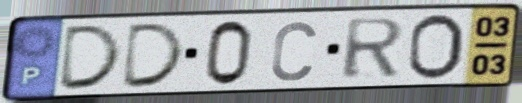0: (203, 18, 256, 87)
C: (268, 19, 319, 84)
D: (118, 20, 189, 90), (55, 22, 126, 92)
O: (404, 12, 466, 82)
R: (339, 15, 408, 81)
